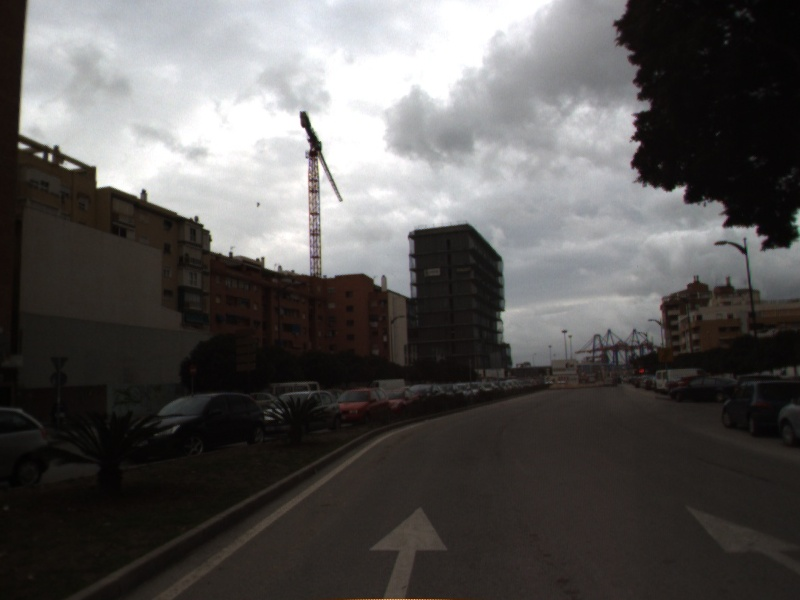STRAIGHT: (365, 502, 453, 600), (683, 504, 800, 577)
